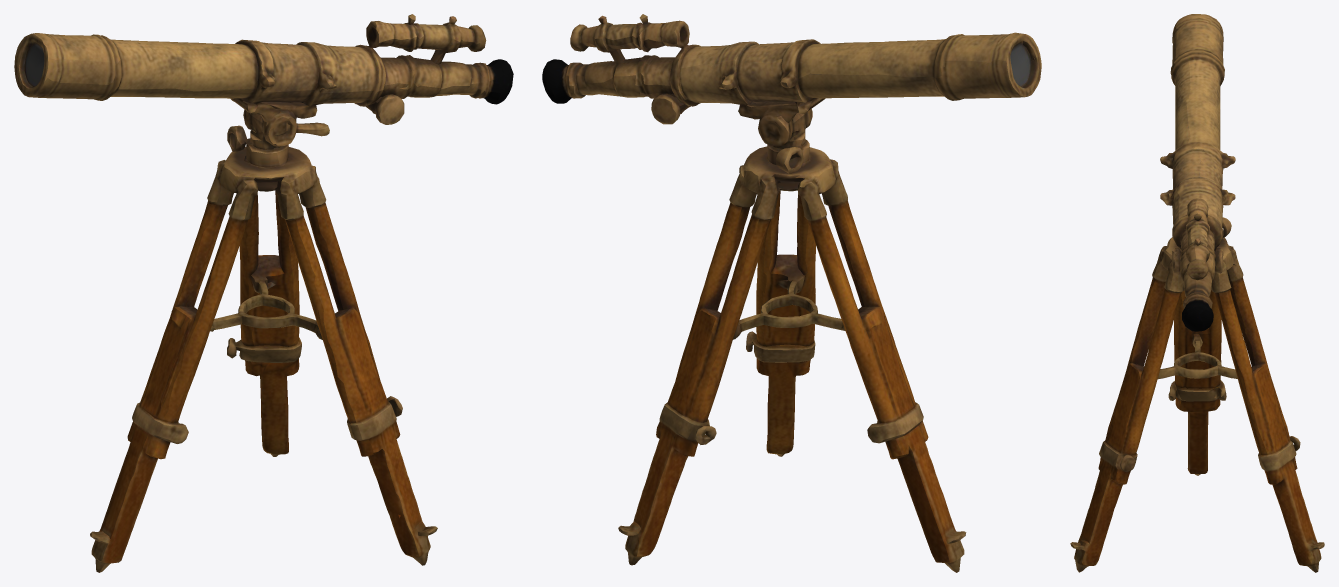
The picture shows the model from 3 angles, left to right: view 1: azimuth 30°, elevation 25°; view 2: azimuth 150°, elevation 25°; view 3: azimuth 270°, elevation 25°; orthographic projection. The views are drawn at different scales.
Parts seen in each view (by area): view 1: world; view 2: world; view 3: world.
Boxes of the visible parts, x1=… form: world: x1=14, y1=14, x2=513, y2=572; world: x1=542, y1=14, x2=1041, y2=572; world: x1=1070, y1=14, x2=1324, y2=572.
Bounding box in the file's own units: 1.02 × 1.1 × 0.5792.
Materials: 1 (1 with a texture image).
